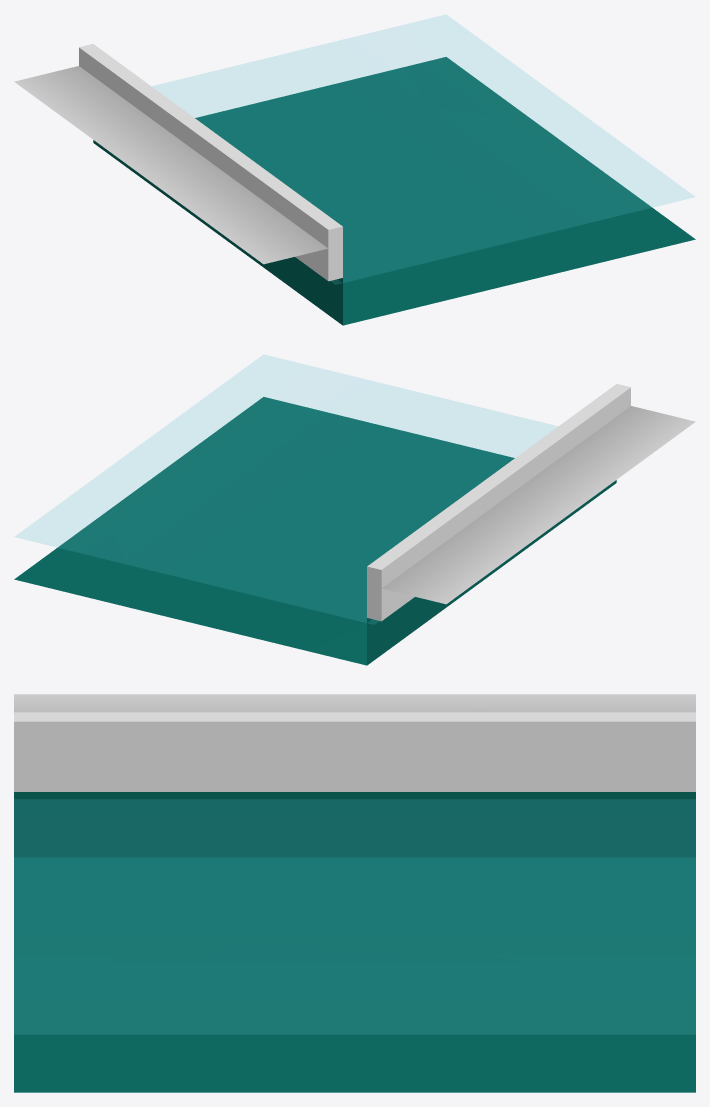
Rendered from Water_07.glb.
3 renders of one model, top to bottom at view 1: azimuth 30°, elevation 25°; view 2: azimuth 150°, elevation 25°; view 3: azimuth 270°, elevation 25°, orthographic. The views are drawn at different scales.
Parts seen in each view (by area): view 1: Water_07; view 2: Water_07; view 3: Water_07.
Boxes of the visible parts, left/top/right/bottom form: Water_07: left=14, top=15, right=695, bottom=325; Water_07: left=14, top=355, right=695, bottom=665; Water_07: left=14, top=694, right=695, bottom=1092.
Bounding box in the file's own units: 15 × 3.29 × 15.
Materials: 2 (2 with a texture image).
